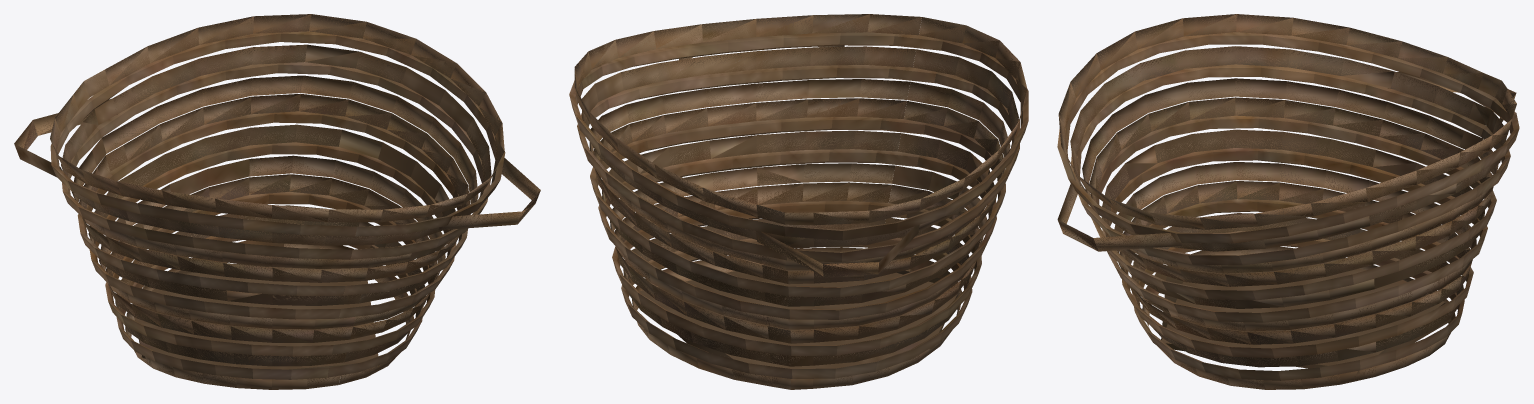
Rendered from basket-token.glb.
3 views of the same model, side by side, from view 1: azimuth 30°, elevation 25°; view 2: azimuth 150°, elevation 25°; view 3: azimuth 270°, elevation 25° (orthographic). The views are drawn at different scales.
Parts seen in each view (by area): view 1: Object_4; view 2: Object_4; view 3: Object_4.
Boxes of the visible parts, box(x1,y1,x2,y2) form: Object_4: box(14, 14, 540, 389); Object_4: box(569, 14, 1028, 389); Object_4: box(1057, 14, 1519, 389).
Bounding box in the file's own units: 1.6 × 0.9258 × 1.6.
1 material, 1 textured.
